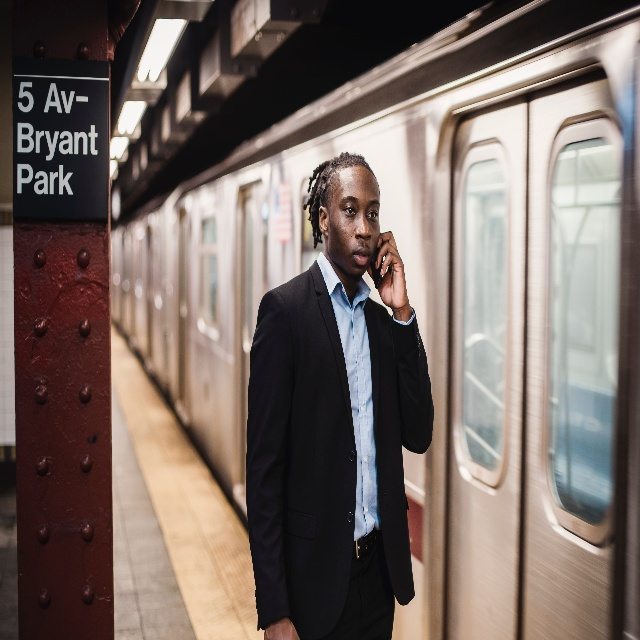Sin_guantes: (363, 227, 408, 309), (265, 616, 299, 640)
